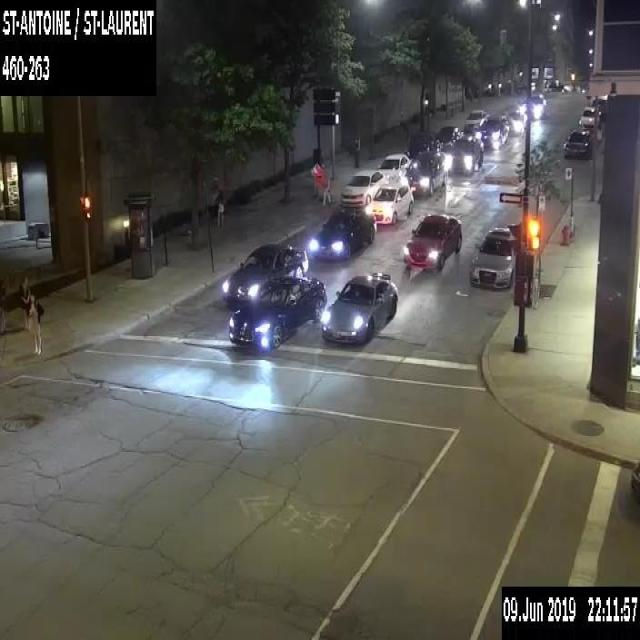construction: (310, 160, 322, 196), (314, 170, 324, 182)
pedestrian: (27, 292, 43, 353), (18, 274, 31, 330), (214, 188, 224, 231), (0, 278, 7, 334), (322, 167, 332, 206)
vehicle: (228, 275, 326, 349), (321, 272, 398, 342), (223, 242, 308, 304), (310, 205, 376, 258), (402, 212, 461, 270), (468, 226, 515, 286), (366, 178, 413, 224), (404, 149, 447, 195), (341, 168, 388, 208), (447, 134, 483, 172), (478, 113, 508, 148), (406, 131, 442, 158), (562, 127, 591, 159), (377, 152, 413, 176), (434, 125, 465, 150), (522, 91, 548, 118), (463, 108, 489, 130), (578, 105, 600, 129), (502, 110, 524, 132), (630, 465, 639, 507), (592, 94, 607, 117)
